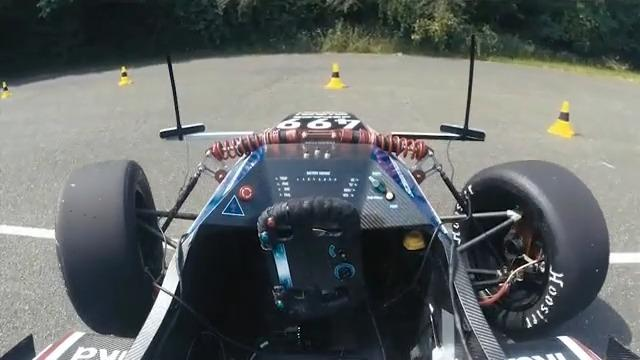yellow_cone: (549, 100, 577, 135), (325, 63, 346, 89), (118, 67, 135, 86), (1, 80, 14, 99)
